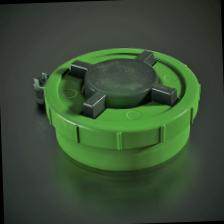PMN2: (25, 44, 202, 178)
